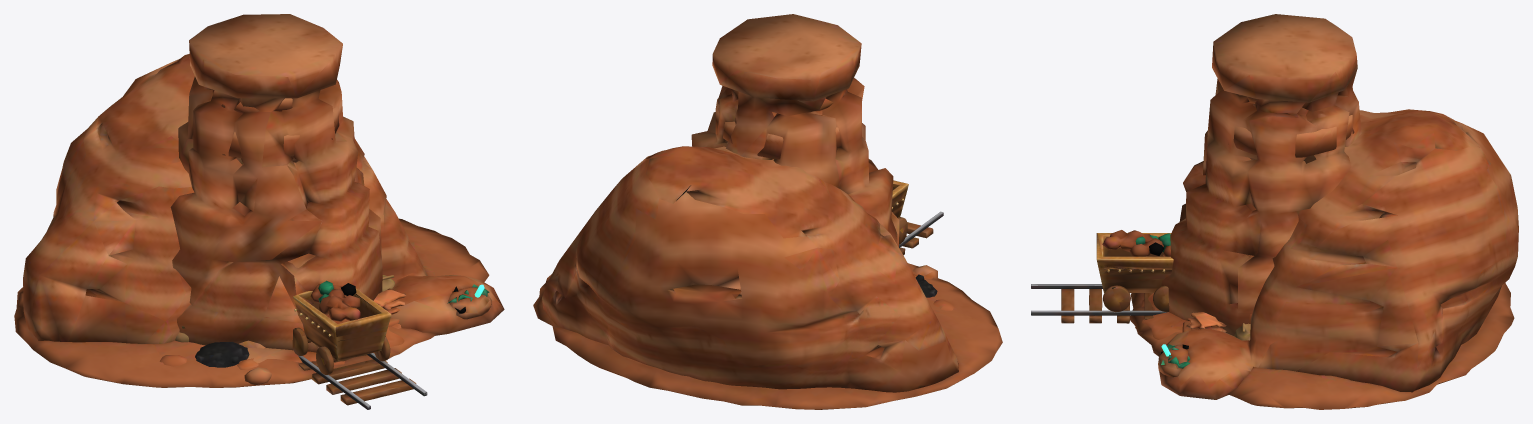
The model's file is bronze_decor_canyon.glb.
3 renders of one model, left to right at view 1: azimuth 30°, elevation 25°; view 2: azimuth 150°, elevation 25°; view 3: azimuth 270°, elevation 25°, orthographic. The views are drawn at different scales.
Parts seen in each view (by area): view 1: Mine, Mesa_C, Smelter, Mesa_A; view 2: Mine, Mesa_C, Mesa_A; view 3: Mine, Mesa_C, Mesa_A, Smelter.
Part boxes in pixels (left/top/right/bottom): Mine: left=14, top=54, right=504, bottom=409; Mesa_C: left=159, top=14, right=404, bottom=385; Smelter: left=175, top=275, right=406, bottom=367; Mesa_A: left=222, top=106, right=339, bottom=369; Mine: left=533, top=146, right=1002, bottom=409; Mesa_C: left=691, top=14, right=954, bottom=310; Mesa_A: left=715, top=98, right=916, bottom=277; Mine: left=1031, top=109, right=1518, bottom=409; Mesa_C: left=1135, top=14, right=1361, bottom=339; Mesa_A: left=1171, top=115, right=1354, bottom=327; Smelter: left=1182, top=312, right=1250, bottom=340.
Size of the model in its own units: 5.2 by 3.2 by 5.27.
3 materials, 1 textured.
